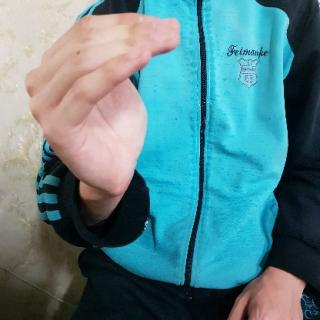HAA: (23, 6, 186, 208)
